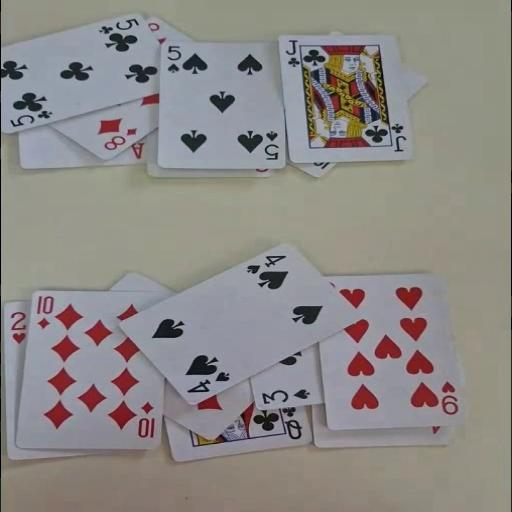10: (135, 400, 156, 438), (34, 293, 54, 330)
2: (8, 310, 28, 344)
4: (183, 370, 232, 394), (243, 253, 288, 275)
5: (7, 108, 53, 128), (96, 16, 140, 35), (262, 128, 280, 160), (167, 44, 185, 74)
8: (100, 126, 139, 151)
9: (438, 378, 460, 416)
J: (388, 121, 407, 153), (284, 38, 300, 68)
